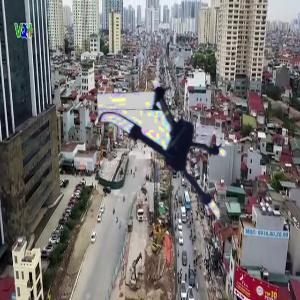drone: (101, 79, 252, 230)
